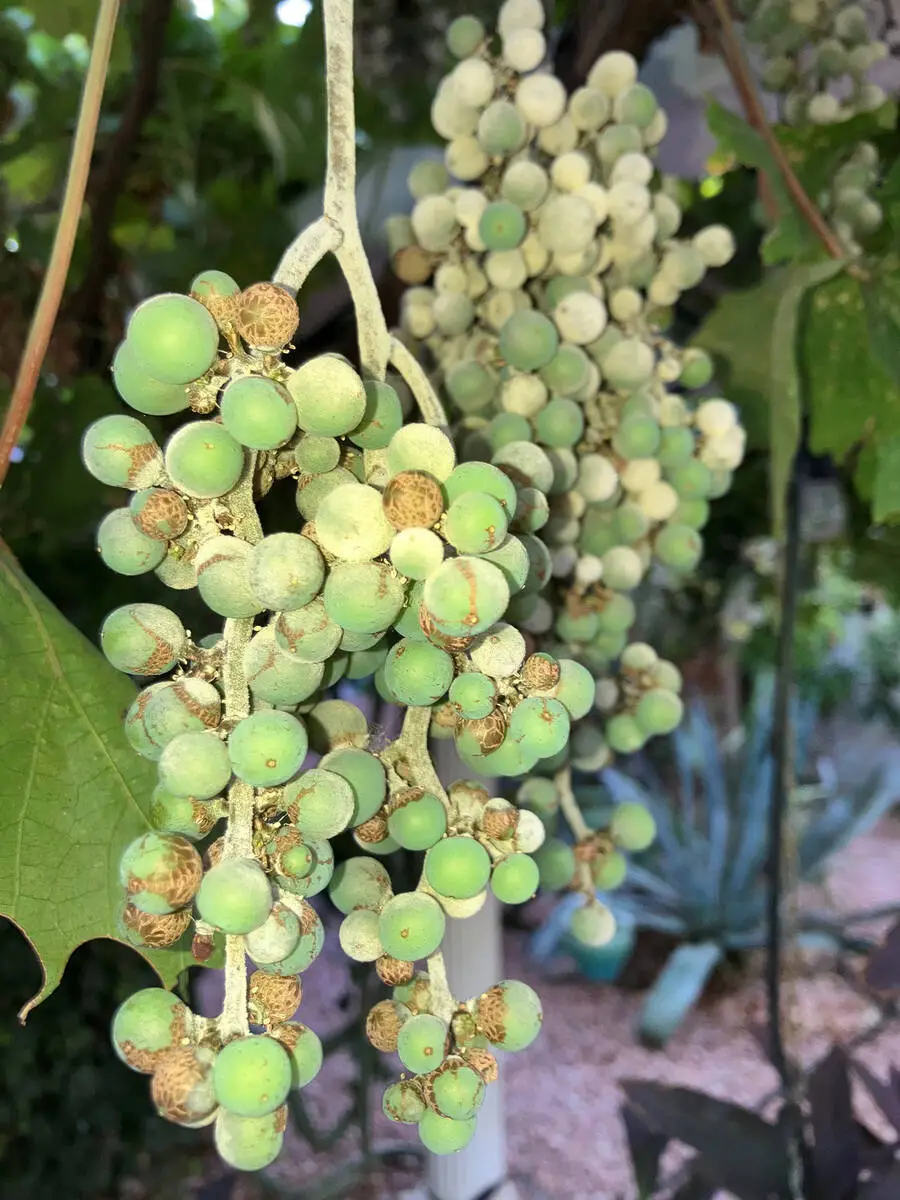Diseased: (125, 674, 222, 763), (240, 626, 332, 710), (115, 987, 202, 1074), (103, 598, 192, 678), (426, 556, 507, 638), (117, 835, 204, 909), (85, 413, 167, 490), (316, 746, 394, 825), (312, 484, 390, 562), (216, 1037, 296, 1112), (258, 526, 326, 614), (169, 421, 250, 494), (234, 714, 314, 783), (328, 556, 396, 634), (99, 498, 167, 572), (258, 895, 326, 969), (198, 546, 258, 626), (218, 1112, 290, 1178), (202, 861, 266, 935), (159, 730, 234, 791), (242, 965, 314, 1027), (240, 277, 298, 353), (290, 773, 354, 841), (384, 891, 442, 965), (149, 1060, 212, 1128), (141, 783, 214, 841), (382, 636, 450, 698), (452, 464, 515, 530), (390, 783, 448, 851), (125, 901, 200, 951), (489, 979, 539, 1052), (515, 698, 571, 763), (354, 381, 410, 445), (266, 1029, 322, 1092), (394, 421, 460, 474), (386, 470, 446, 526), (466, 626, 533, 676), (244, 907, 302, 959), (314, 698, 364, 757), (400, 1013, 446, 1076), (278, 608, 342, 652), (551, 658, 595, 722), (332, 861, 392, 907), (452, 496, 503, 550), (192, 269, 244, 321), (424, 1108, 474, 1160), (342, 907, 378, 963), (436, 885, 489, 923), (384, 1078, 424, 1128), (448, 785, 491, 831), (454, 710, 501, 751), (292, 433, 342, 470), (366, 1005, 402, 1056), (278, 843, 320, 885), (513, 807, 553, 847), (525, 652, 559, 694), (472, 1045, 503, 1090), (372, 957, 418, 987), (487, 797, 511, 847), (462, 670, 489, 710)
Healthy: (131, 293, 220, 387), (111, 331, 194, 411), (294, 357, 374, 437), (224, 373, 296, 441), (422, 837, 489, 893), (495, 851, 539, 905)
